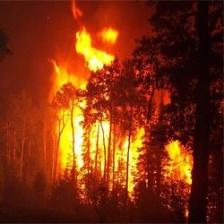fire: (48, 37, 201, 194)
